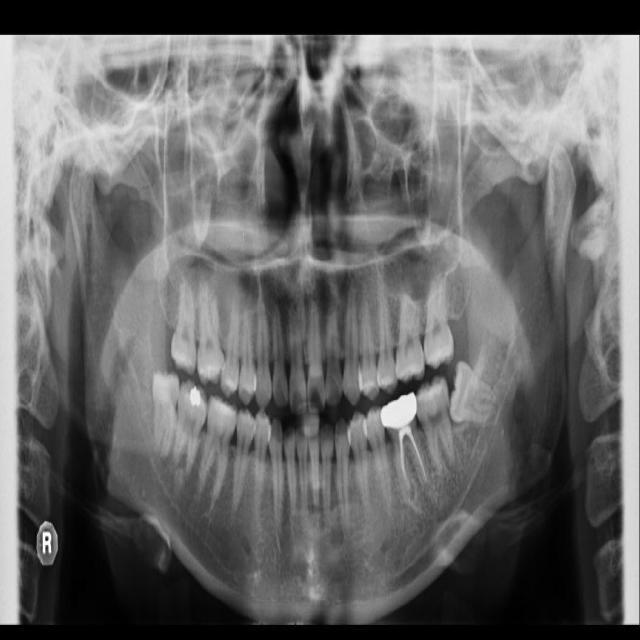52: (375, 390, 426, 436), (175, 378, 211, 429), (445, 404, 450, 419)
73: (383, 413, 437, 498), (602, 589, 610, 600)
BioHorizons Implant: (424, 274, 454, 369)
Biomet 3i Implant: (449, 360, 498, 424)
Blue Sky Bio Implant: (412, 374, 458, 475)
Caries: (167, 276, 198, 376)
Implant: (171, 378, 211, 475)
Keystone Dental Implant: (149, 370, 180, 459)
